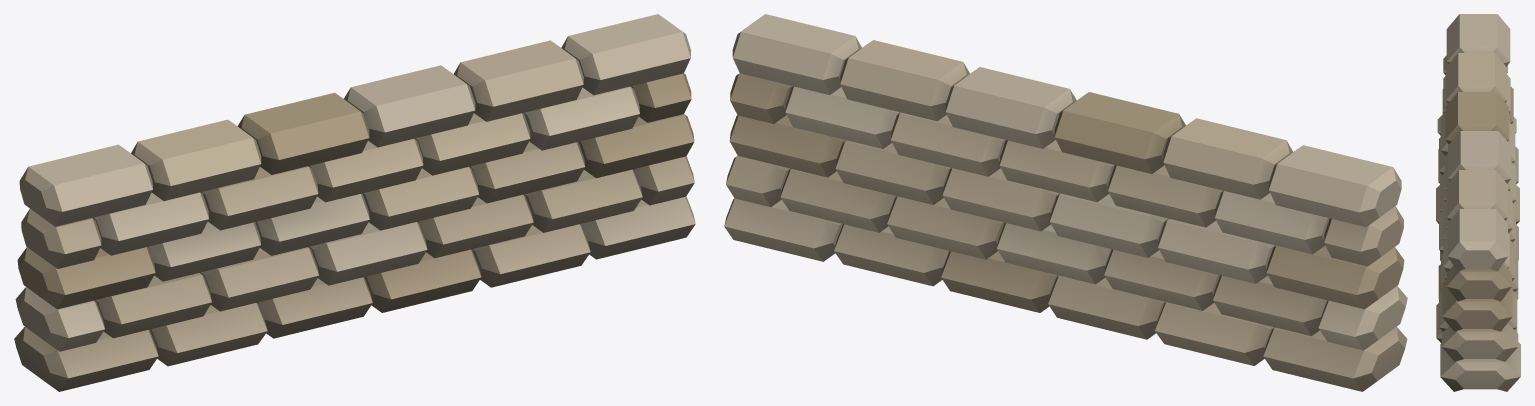
The model's file is sandbags.glb.
3 views of the same model, side by side, from view 1: azimuth 30°, elevation 25°; view 2: azimuth 150°, elevation 25°; view 3: azimuth 270°, elevation 25° (orthographic). The views are drawn at different scales.
Bounding box in the file's own units: 3.99 × 1.2 × 0.6122.
